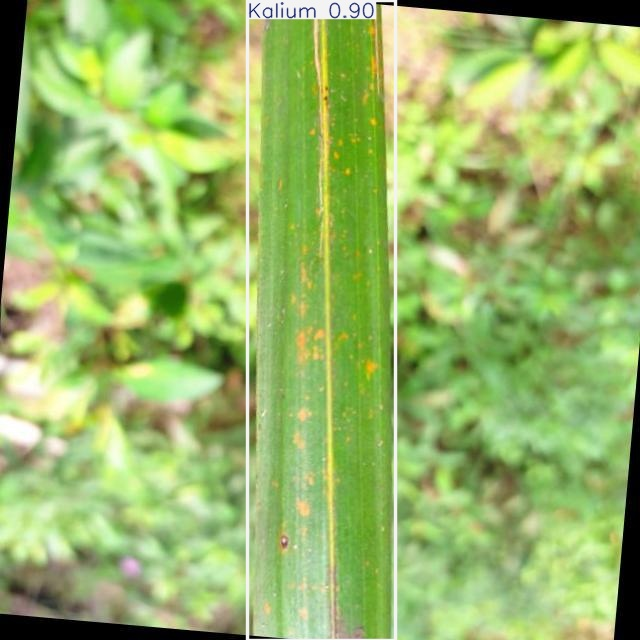Kalium: (247, 0, 395, 640)
